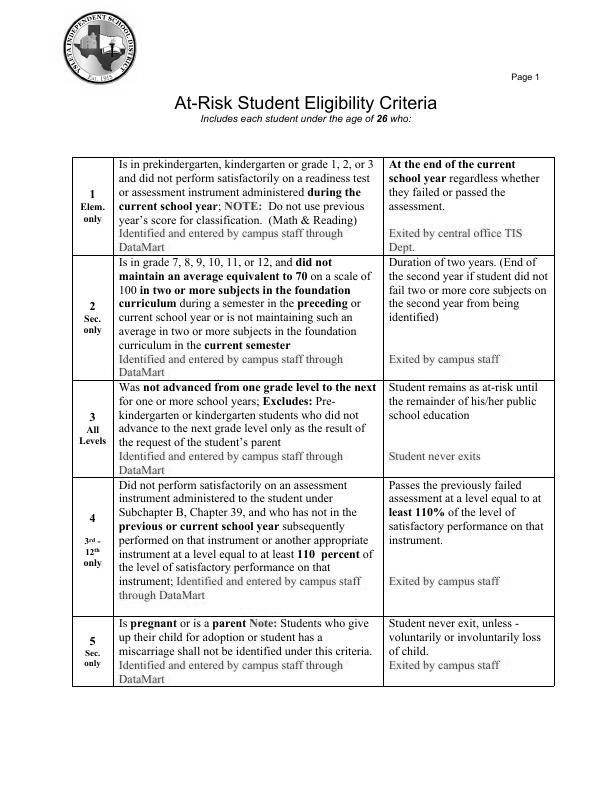table: (63, 148, 565, 698)
text: (168, 88, 442, 128)
